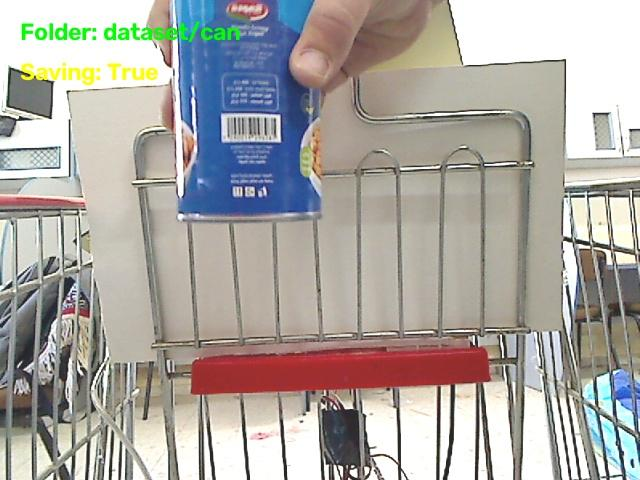can: (172, 0, 321, 221)
